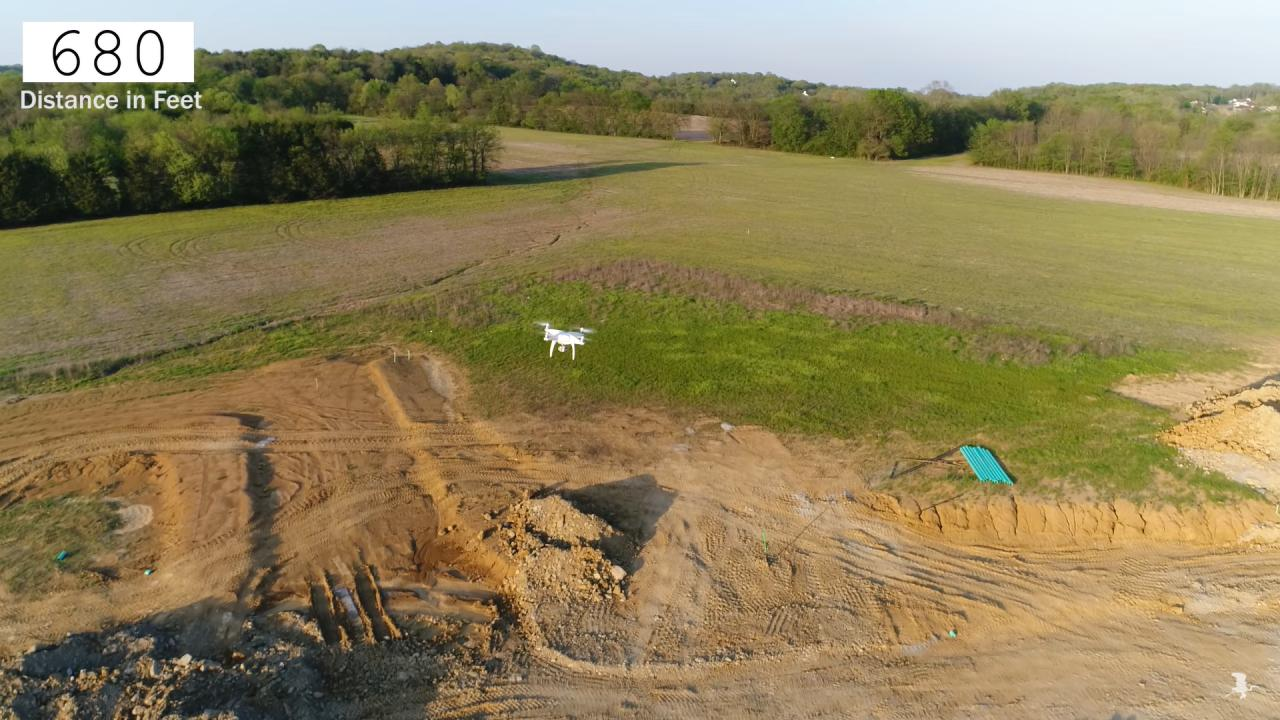Drone: (527, 314, 605, 368)
